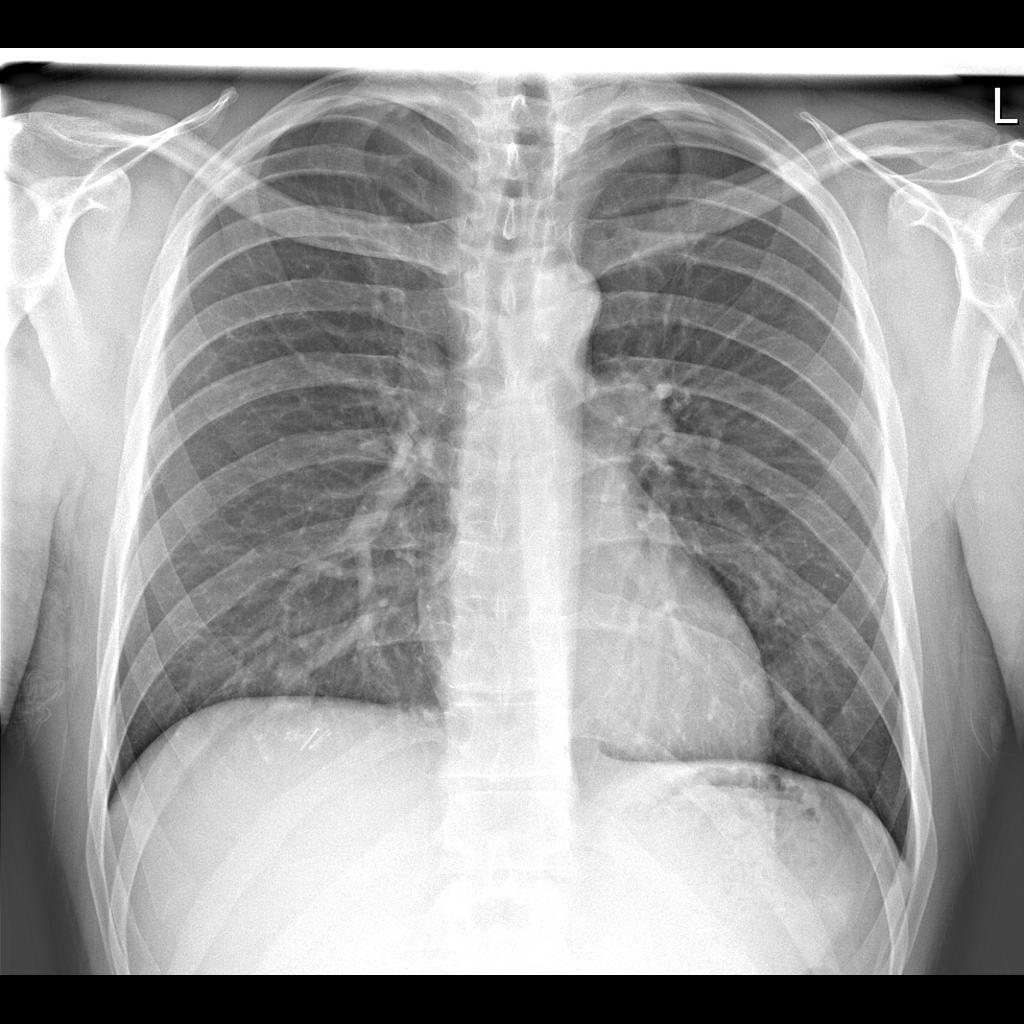Nodule: (272, 654, 315, 709), (735, 577, 784, 625)
